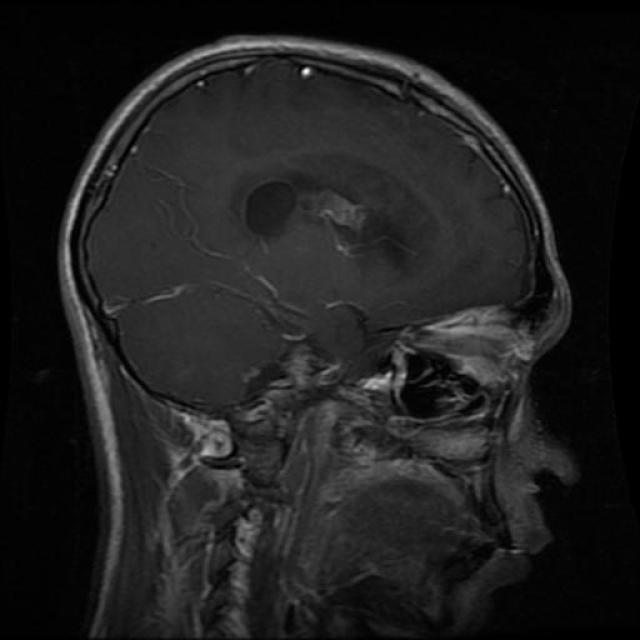glioma: (238, 175, 417, 260)
